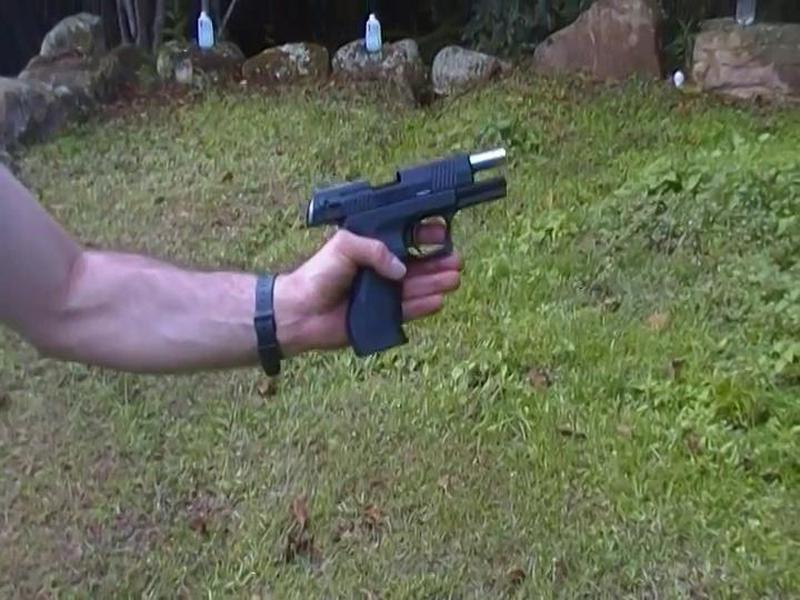Pistola: (293, 139, 544, 366)
